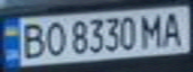0: (118, 13, 142, 51)
3: (103, 15, 124, 53), (87, 16, 106, 54)
8: (66, 17, 90, 55)
A: (157, 9, 190, 47)
B: (15, 20, 48, 61)
M: (139, 11, 169, 48)
O: (39, 19, 69, 57)
